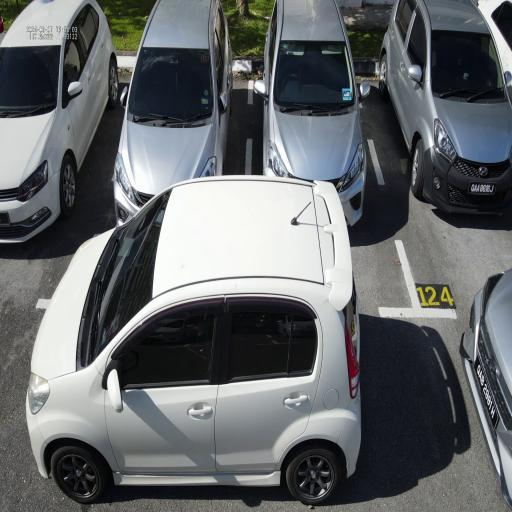Illegal: (24, 170, 366, 512), (457, 262, 512, 512)
Occupied: (239, 72, 427, 326), (81, 70, 256, 337)
